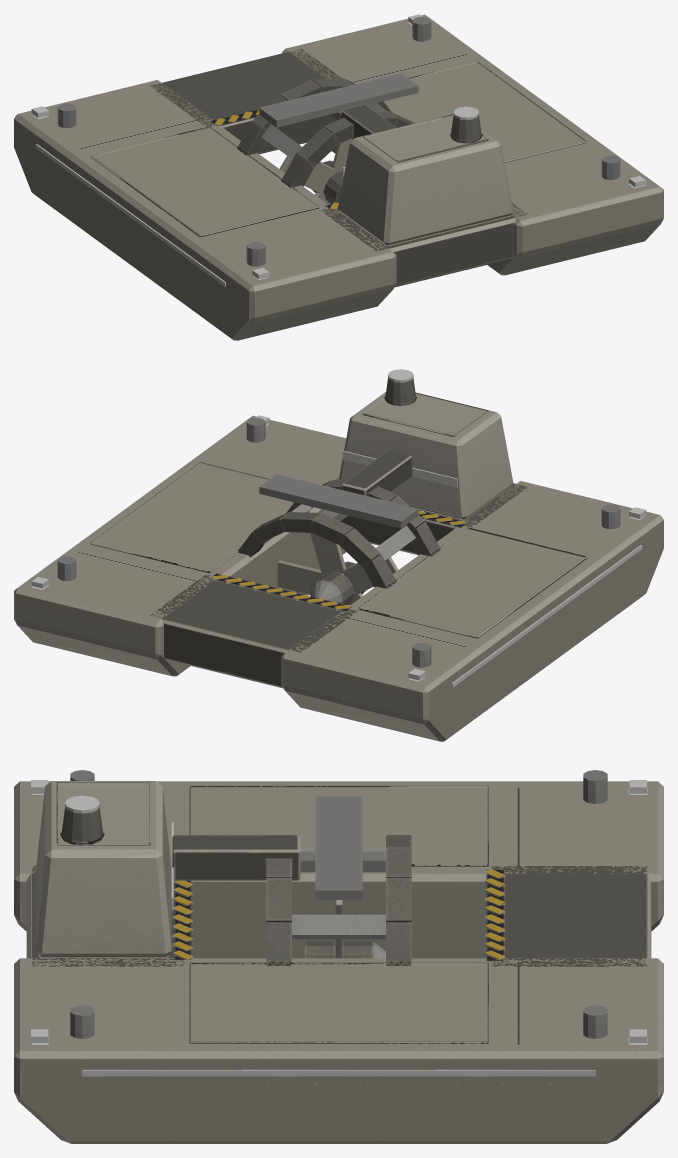
File: ord_tidal.fbx
3 renders of one model, top to bottom at view 1: azimuth 30°, elevation 25°; view 2: azimuth 150°, elevation 25°; view 3: azimuth 270°, elevation 25°, orthographic. The views are drawn at different scales.
Visible parts, largest first — view 1: base_bar, base_glow_running_bar, rotor_bar; view 2: base_bar, rotor_bar, base_glow_running_bar, base_glow_power_bar; view 3: base_bar, base_glow_running_bar, rotor_bar, base_glow_power_bar.
Part boxes in pixels (x1,y1,x2,y2): base_bar: [14, 14, 663, 340]; base_glow_running_bar: [31, 14, 646, 286]; rotor_bar: [279, 138, 352, 204]; base_bar: [14, 377, 663, 741]; rotor_bar: [277, 533, 398, 605]; base_glow_running_bar: [31, 415, 646, 687]; base_glow_power_bar: [342, 369, 457, 487]; base_bar: [14, 770, 663, 1143]; base_glow_running_bar: [31, 780, 646, 1076]; rotor_bar: [304, 900, 385, 958]; base_glow_power_bar: [65, 795, 173, 909].
Size of the model in its own units: 1529 by 786 by 1520.
Materials: 2 (2 with a texture image).
